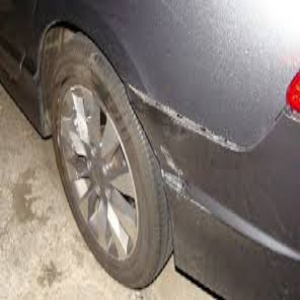bumper_scratch: (152, 122, 257, 277)
